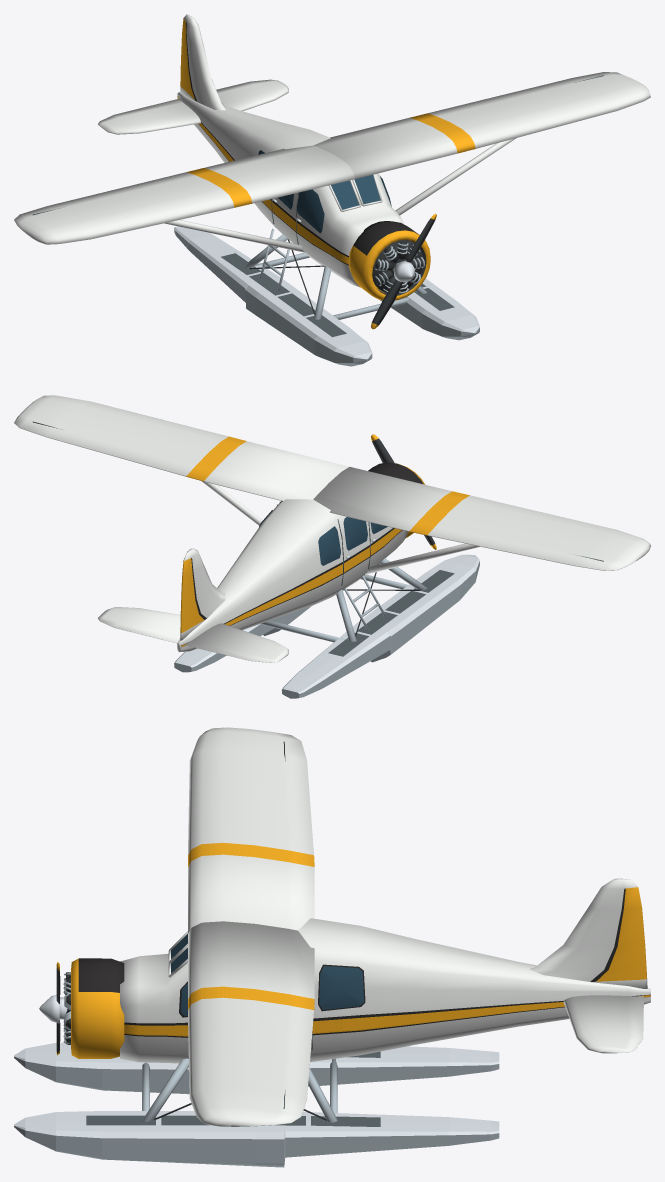
File: beaver_floatplane.glb
3 views of the same model, one above another, from view 1: azimuth 30°, elevation 25°; view 2: azimuth 150°, elevation 25°; view 3: azimuth 270°, elevation 25° (orthographic). The views are drawn at different scales.
Visible parts, largest first — view 1: Airframe, Propeller; view 2: Airframe; view 3: Airframe, Propeller.
Boxes of the visible parts, <box> form: Airframe: <box>14,14,650,366</box>; Propeller: <box>371,214,436,329</box>; Airframe: <box>14,395,650,698</box>; Airframe: <box>14,727,650,1167</box>; Propeller: <box>39,962,60,1055</box>.
Size of the model in its own units: 14.68 by 4.41 by 10.04.
